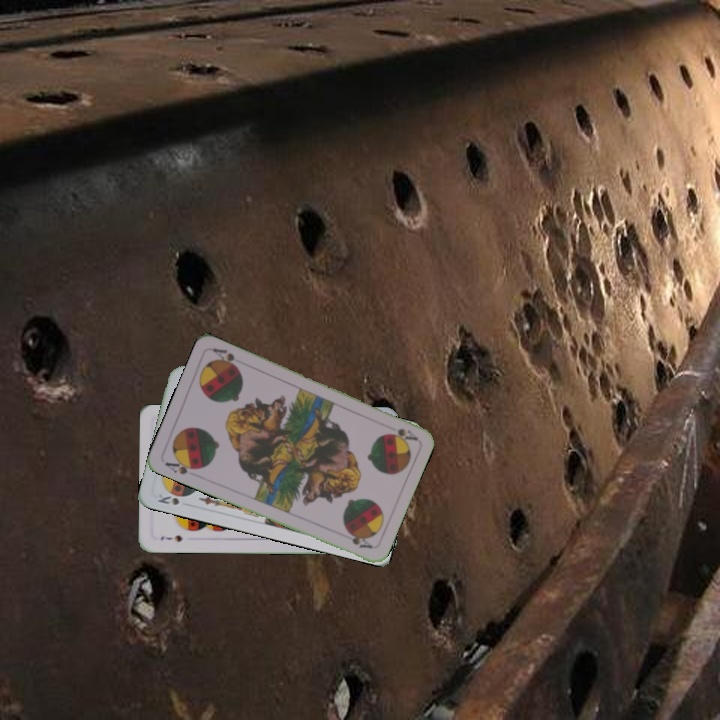S7: (157, 531, 185, 544)
SA: (161, 454, 202, 477), (393, 424, 420, 443)
SK: (154, 490, 182, 508)
